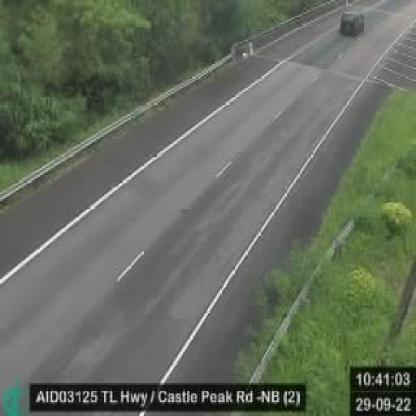Car: (339, 5, 369, 38)
